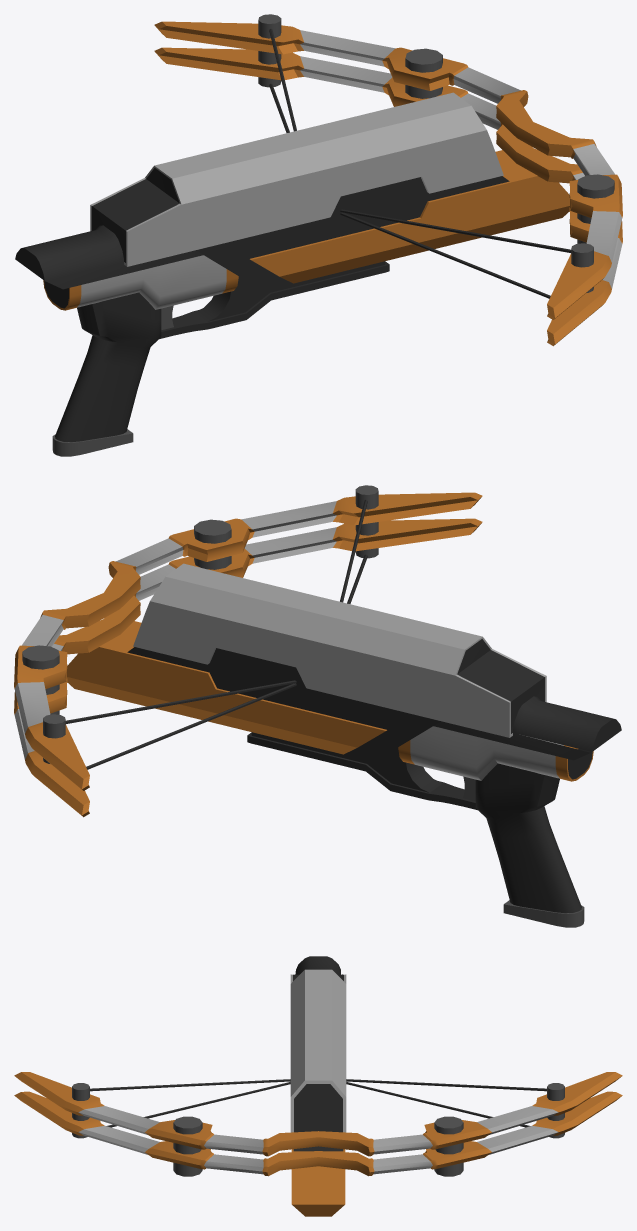
File: Crossbow_2.glb
3 views of the same model, one above another, from view 1: azimuth 30°, elevation 25°; view 2: azimuth 150°, elevation 25°; view 3: azimuth 270°, elevation 25° (orthographic). The views are drawn at different scales.
Visible parts, largest first — view 1: Crossbow_2; view 2: Crossbow_2; view 3: Crossbow_2.
Boxes of the visible parts, x1,y1,x2,y2 form: Crossbow_2: (15, 14, 622, 456); Crossbow_2: (14, 485, 621, 927); Crossbow_2: (14, 956, 622, 1216).
Bounding box in the file's own units: 1.47 × 0.6749 × 1.92.
